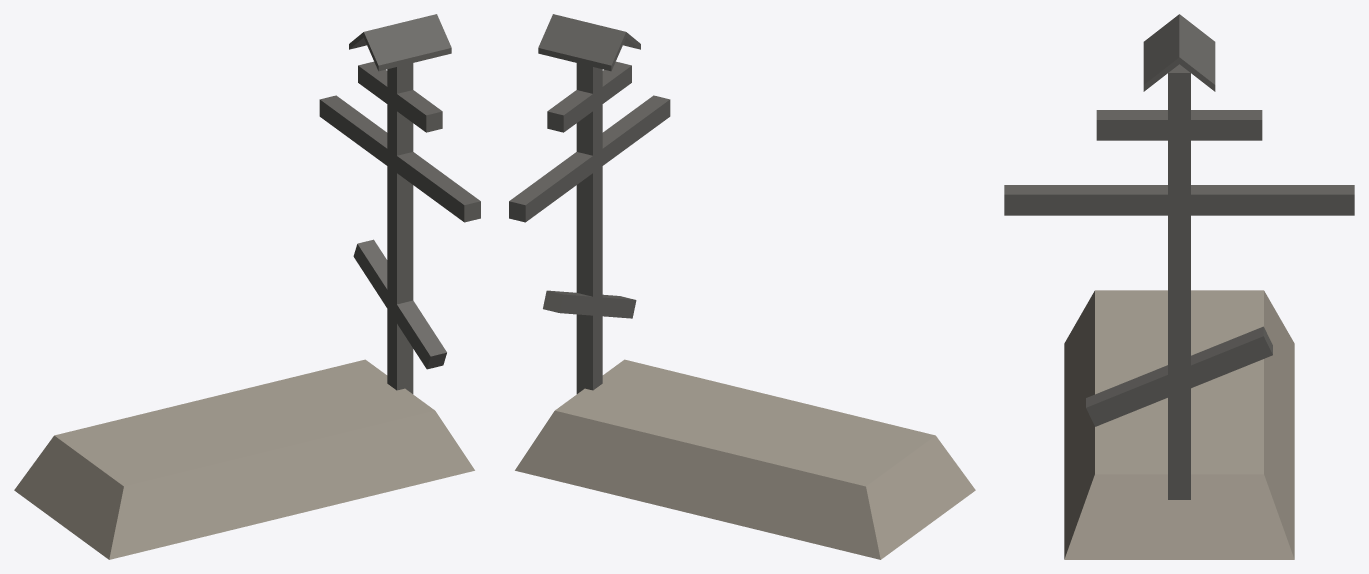
The model's file is SM_Cem_CrossWood.glb.
The picture shows the model from 3 angles, left to right: view 1: azimuth 30°, elevation 25°; view 2: azimuth 150°, elevation 25°; view 3: azimuth 270°, elevation 25°; orthographic projection. The views are drawn at different scales.
Parts seen in each view (by area): view 1: SM_Cem_CrossWood; view 2: SM_Cem_CrossWood; view 3: SM_Cem_CrossWood.
Boxes of the visible parts, bbox=[...] form: SM_Cem_CrossWood: bbox=[14, 14, 480, 559]; SM_Cem_CrossWood: bbox=[509, 14, 975, 559]; SM_Cem_CrossWood: bbox=[1004, 14, 1354, 559].
Bounding box in the file's own units: 2.05 × 2.19 × 1.37.
